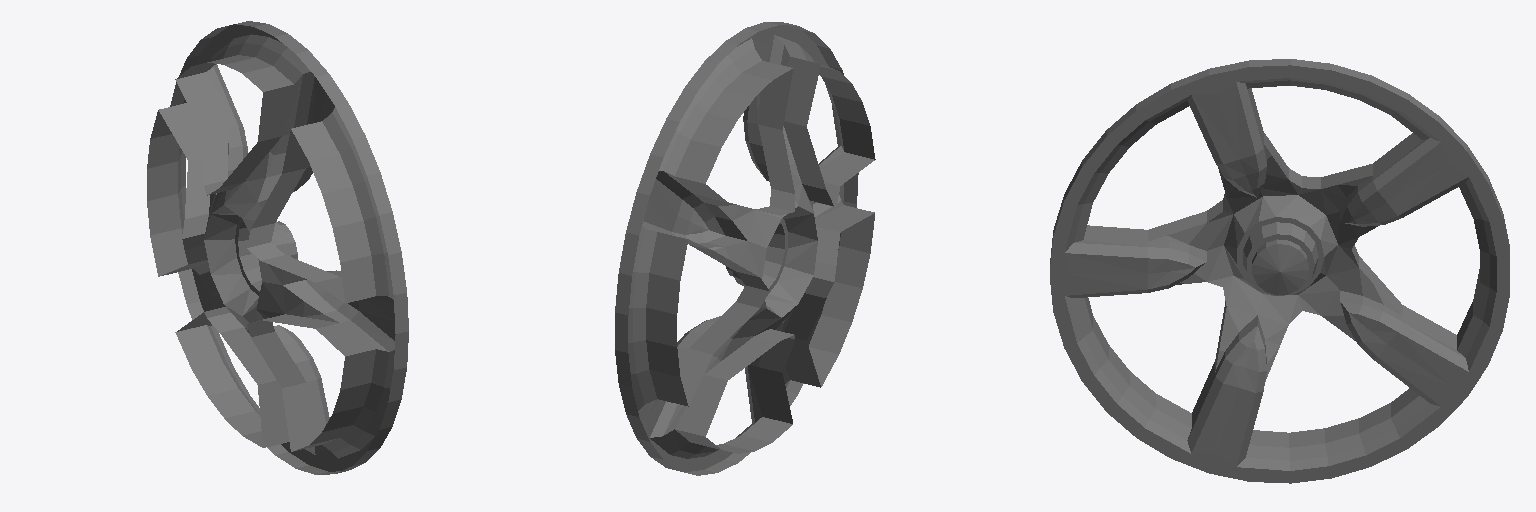
Rendered from Rin3_Carro.obj.
3 renders of one model, left to right at view 1: azimuth 30°, elevation 25°; view 2: azimuth 150°, elevation 25°; view 3: azimuth 270°, elevation 25°, orthographic.
Parts seen in each view (by area): view 1: Rin3_Carro; view 2: Rin3_Carro; view 3: Rin3_Carro.
Boxes of the visible parts, x1=… form: Rin3_Carro: x1=147, y1=21, x2=408, y2=474; Rin3_Carro: x1=615, y1=22, x2=875, y2=475; Rin3_Carro: x1=1050, y1=59, x2=1509, y2=483.
Bounding box in the file's own units: 3.33 × 17.59 × 17.57.